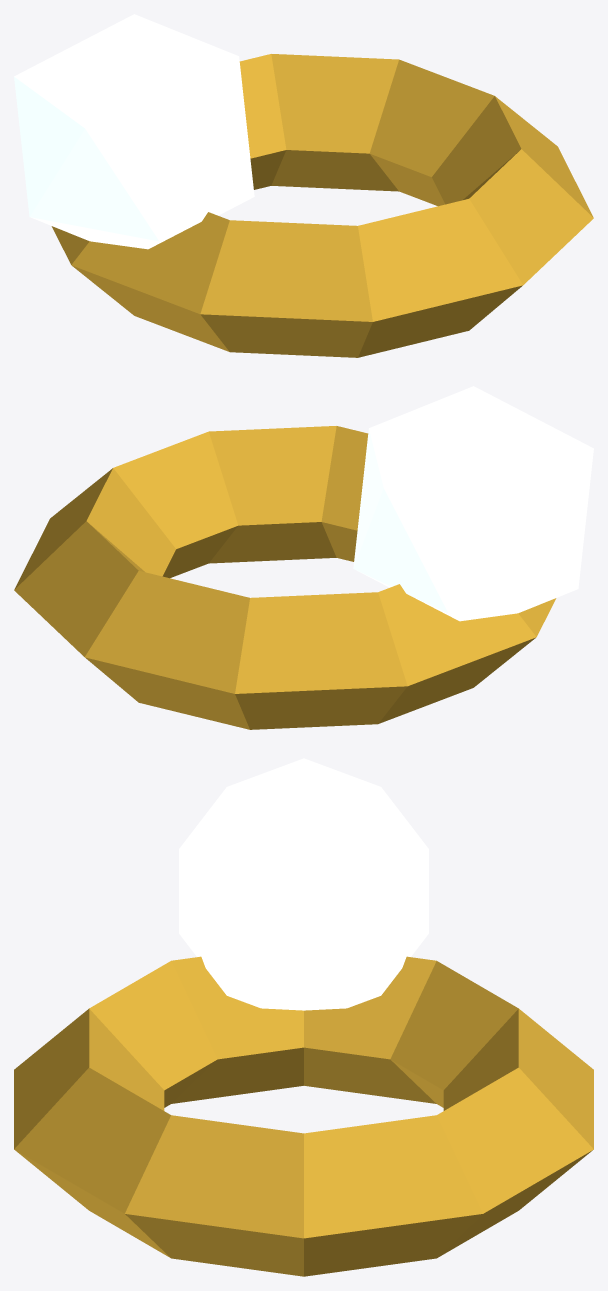
The model's file is ring.fbx.
3 renders of one model, top to bottom at view 1: azimuth 30°, elevation 25°; view 2: azimuth 150°, elevation 25°; view 3: azimuth 270°, elevation 25°, orthographic. The views are drawn at different scales.
Visible parts, largest first — view 1: ring; view 2: ring; view 3: ring.
Part boxes in pixels (x1,y1,x2,y2): ring: (14, 14, 593, 357); ring: (14, 386, 593, 729); ring: (14, 758, 593, 1276).
Size of the model in its own units: 0.2345 by 0.128 by 0.2054.
